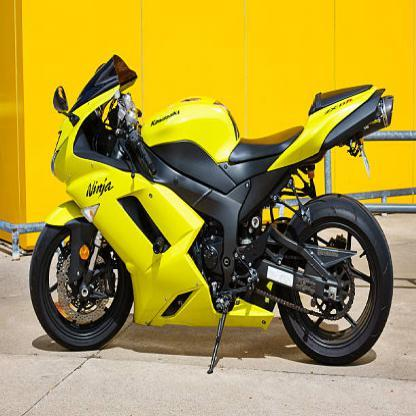Motorcycle: (28, 39, 403, 379)
